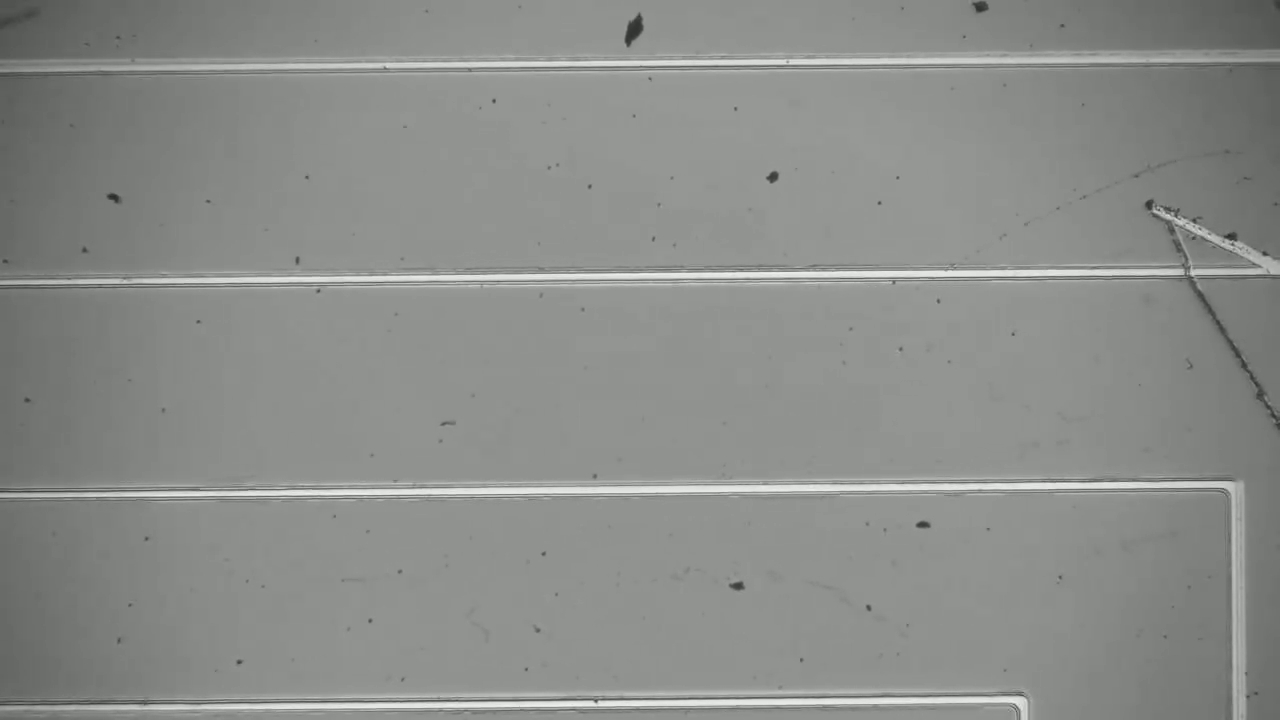scratch: (1157, 227, 1280, 431), (1031, 139, 1241, 208), (1146, 194, 1278, 274)
